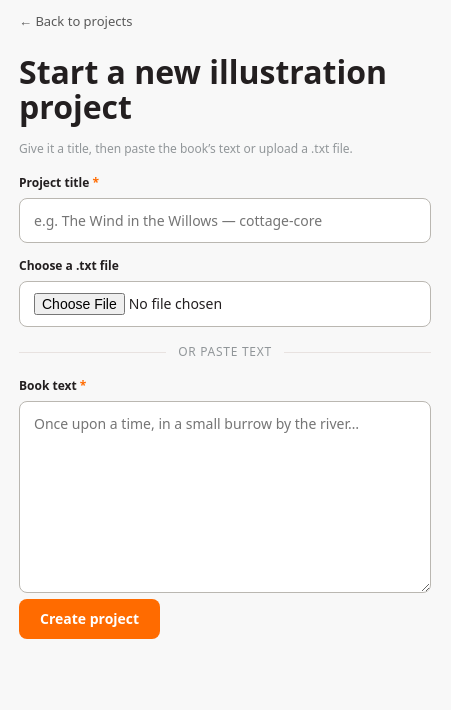
Scenario: a server failure is shown and does not navigate away
This screenshot has width=451, height=710.
Type "Willows" into the field labelled "Project title *" at (225, 221), box x1=19 y1=198 x2=431 y2=243
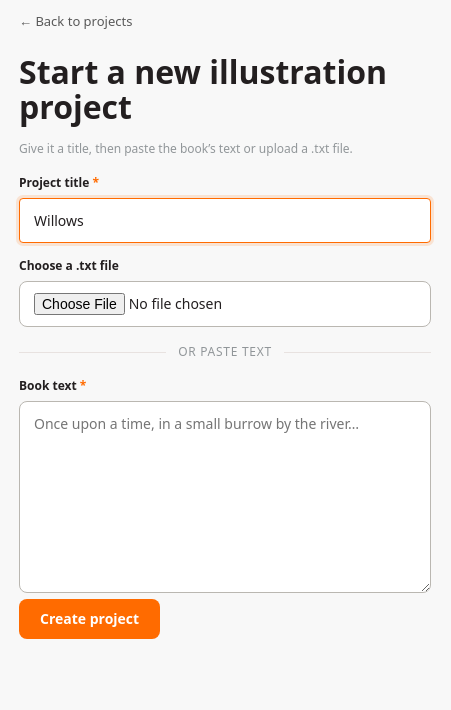
Type "text" into the text box labelled "Book text *" at (225, 497), box x1=19 y1=401 x2=431 y2=593
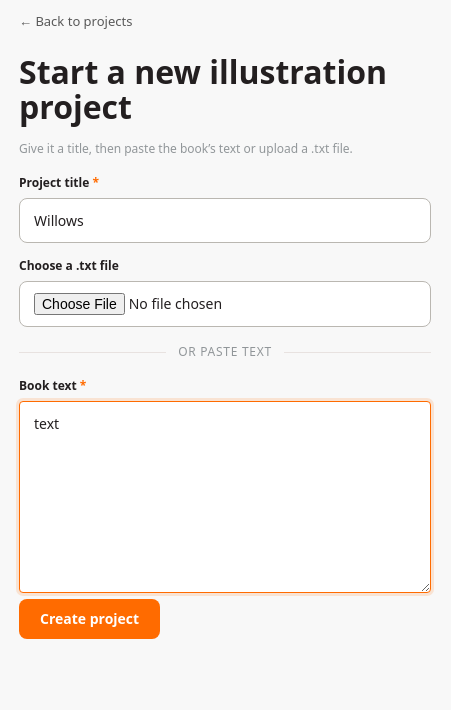
Click the button "Create project" at (90, 619), box x1=19 y1=599 x2=160 y2=639
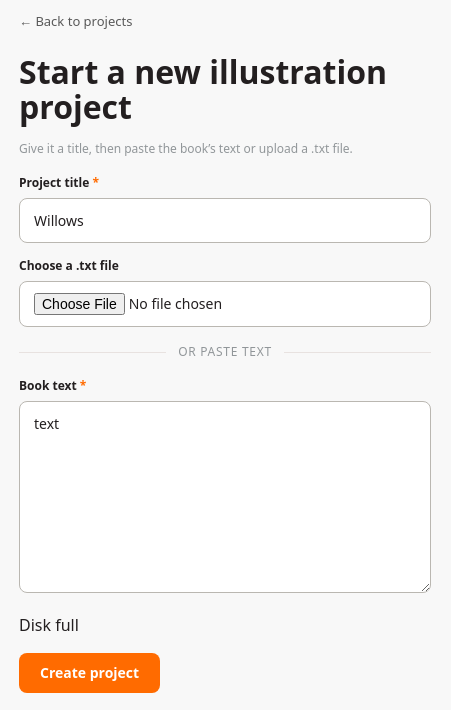
Check: the message reads "Disk full", box x1=19 y1=614 x2=79 y2=636
